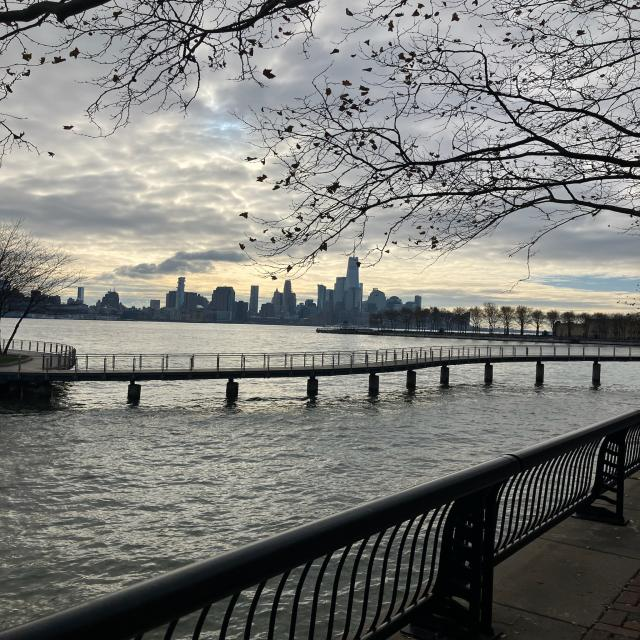WTC: (345, 237, 362, 288)
